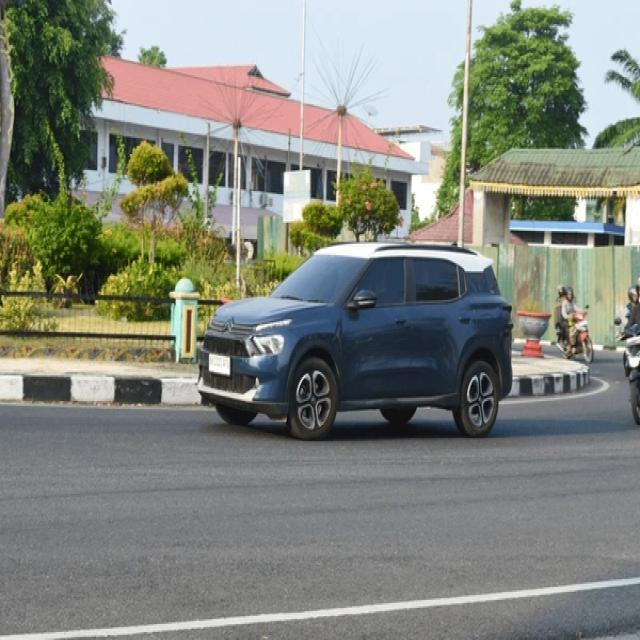citroen: (219, 314, 239, 339)
